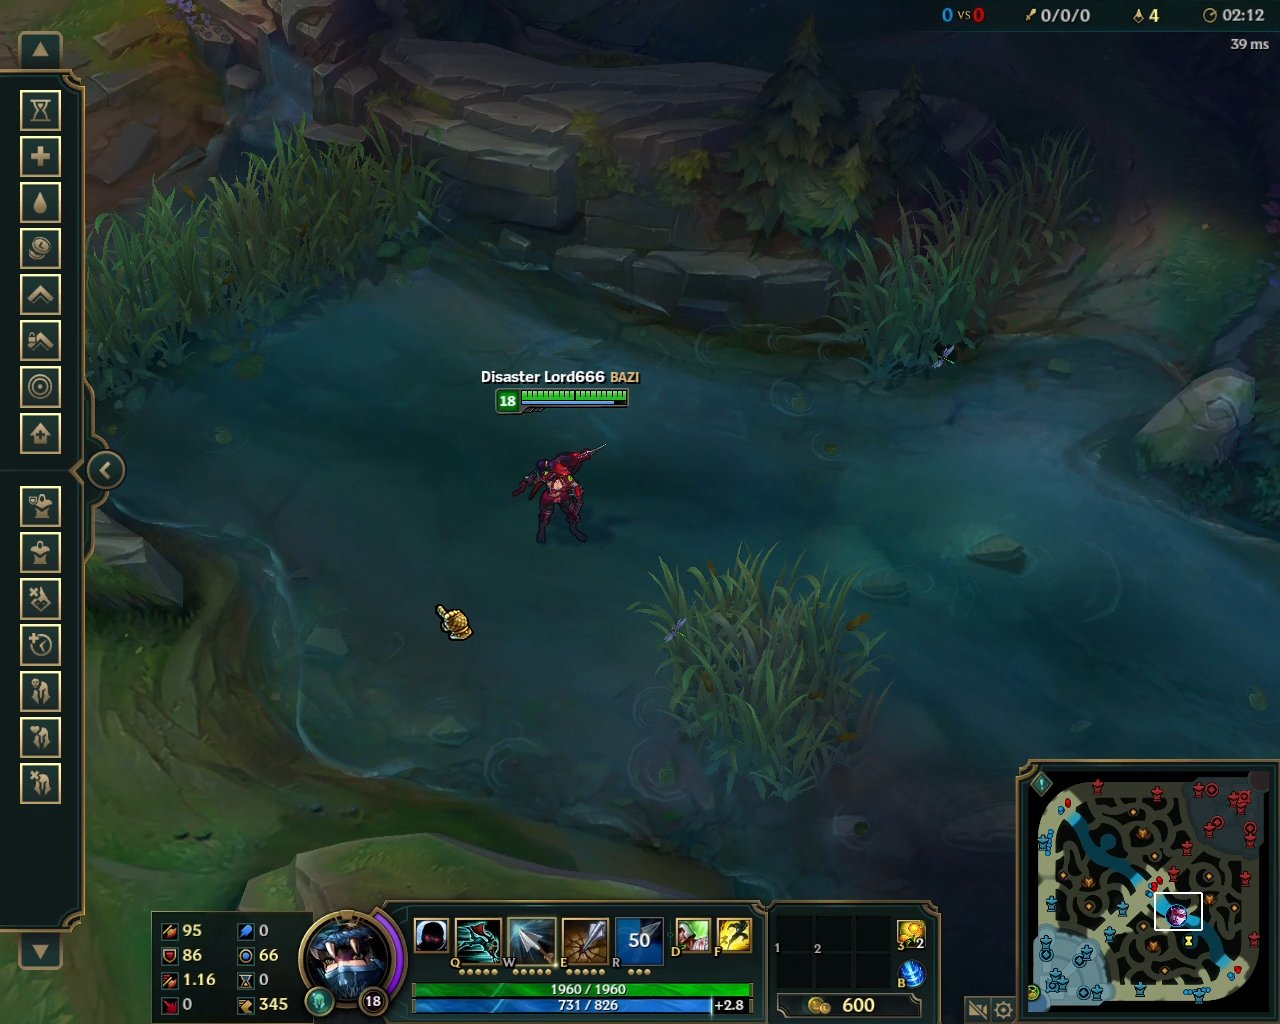Vayne: (512, 441, 614, 548)
